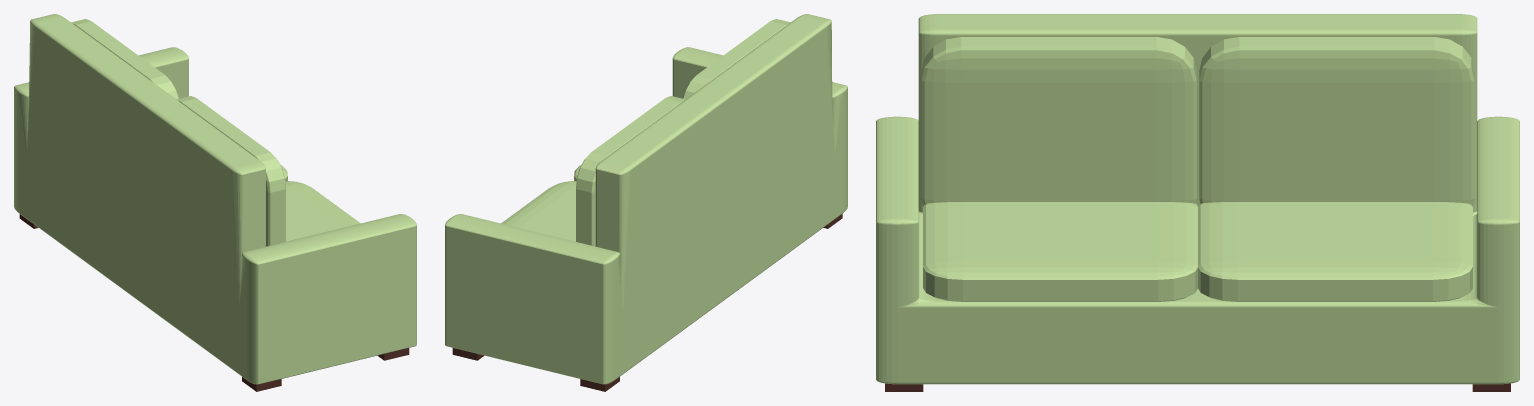
File: sofa.fbx
3 views of the same model, side by side, from view 1: azimuth 30°, elevation 25°; view 2: azimuth 150°, elevation 25°; view 3: azimuth 270°, elevation 25° (orthographic). The views are drawn at different scales.
Visible parts, largest first — view 1: Cube, Cube.002, Cube.001, Cube.004; view 2: Cube, Cube.002, Cube.001, Cube.004; view 3: Cube.002, Cube, Cube.001, Cube.003.
Part boxes in pixels (<box>): Cube: <box>14,14,416,384</box>; Cube.002: <box>71,19,285,246</box>; Cube.001: <box>280,164,360,241</box>; Cube.004: <box>19,214,281,391</box>; Cube: <box>445,14,847,384</box>; Cube.002: <box>576,19,790,246</box>; Cube.001: <box>501,164,581,241</box>; Cube.004: <box>580,214,842,391</box>; Cube.002: <box>921,37,1474,206</box>; Cube: <box>876,14,1519,384</box>; Cube.001: <box>923,202,1472,301</box>; Cube.003: <box>885,383,1510,391</box>.
Size of the model in its own units: 248 by 301 by 632.
